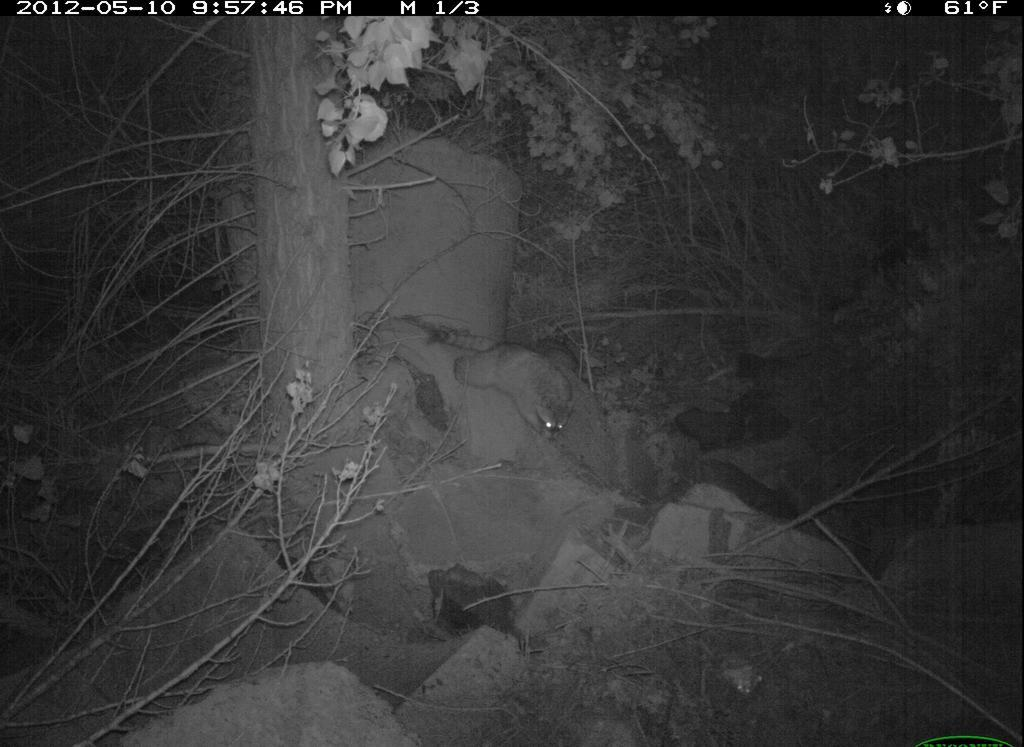raccoon: (449, 339, 578, 436)
